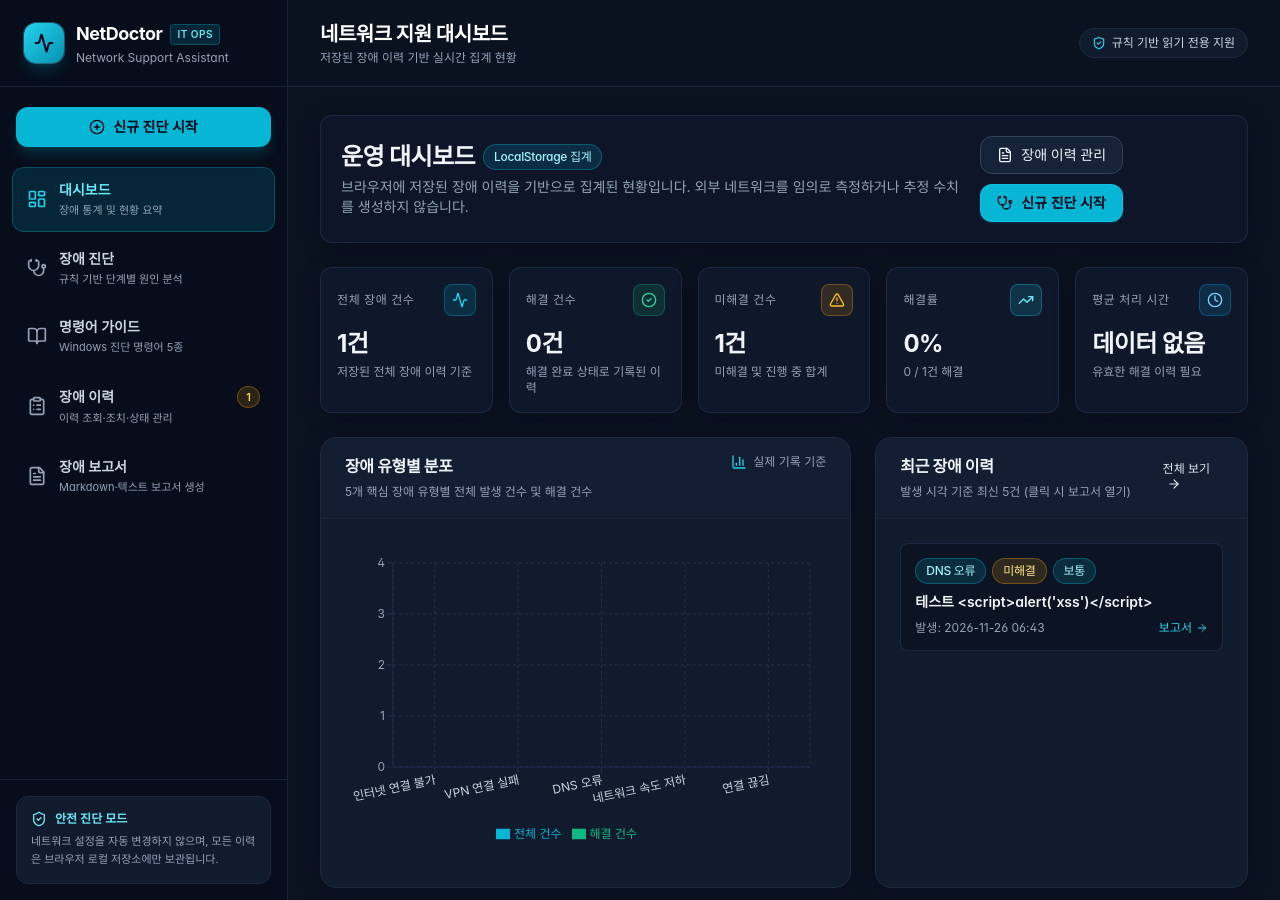
Test case: NetDoctor Security, Validation & XSS Defense Suite › XSS payload neutralization and safe DOM rendering › renders script, img onerror, and javascript: payloads strictly as escaped text with zero executable elements
This screenshot has width=1280, height=900.
History view
Click the button "장애 이력 1 이력 조회·조치·상태 관리" at (87, 396), box x1=12 y1=372 x2=275 y2=440
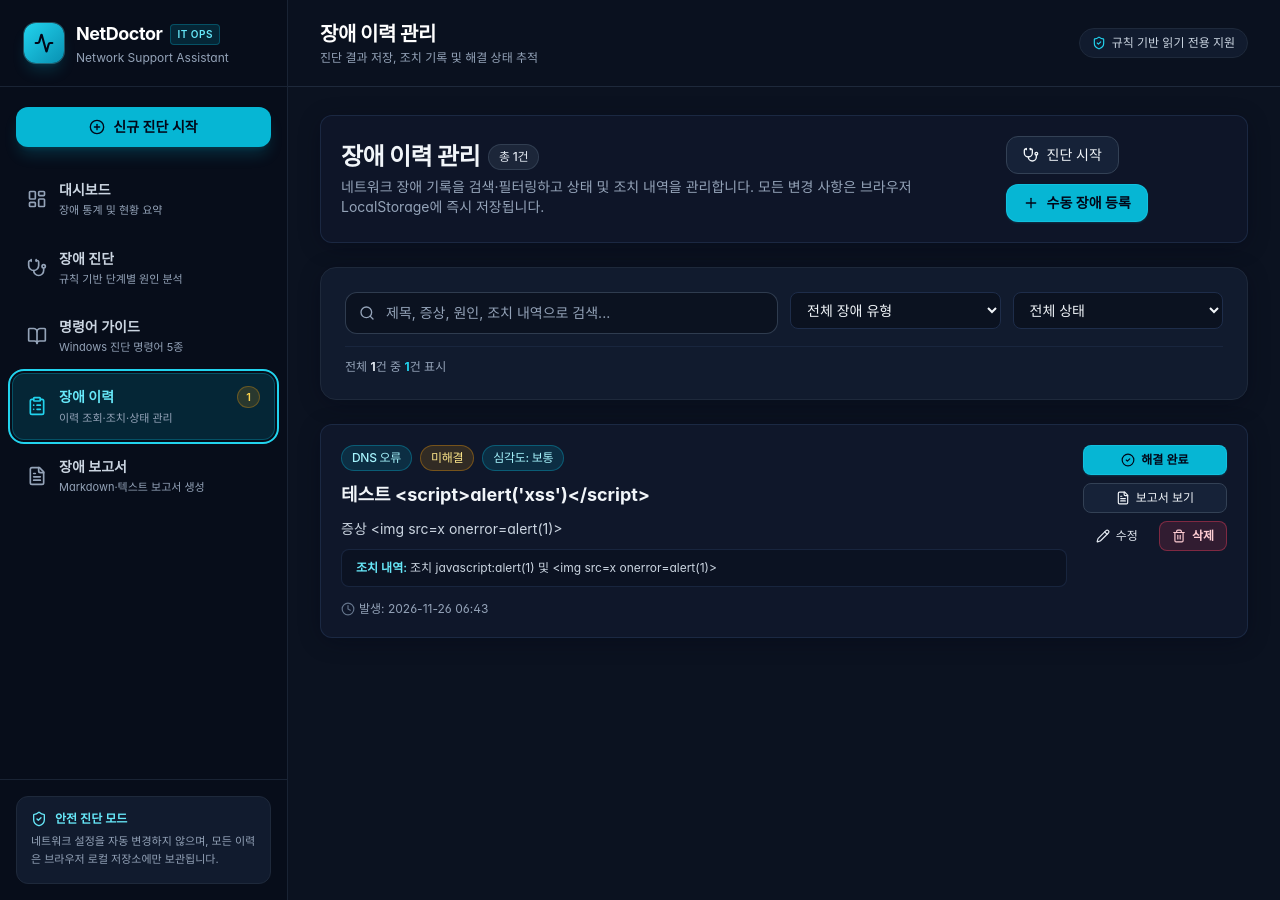
Report view
Click the button "장애 보고서 Markdown·텍스트 보고서 생성" at (93, 466), box x1=12 y1=444 x2=275 y2=508
(page scrolled)
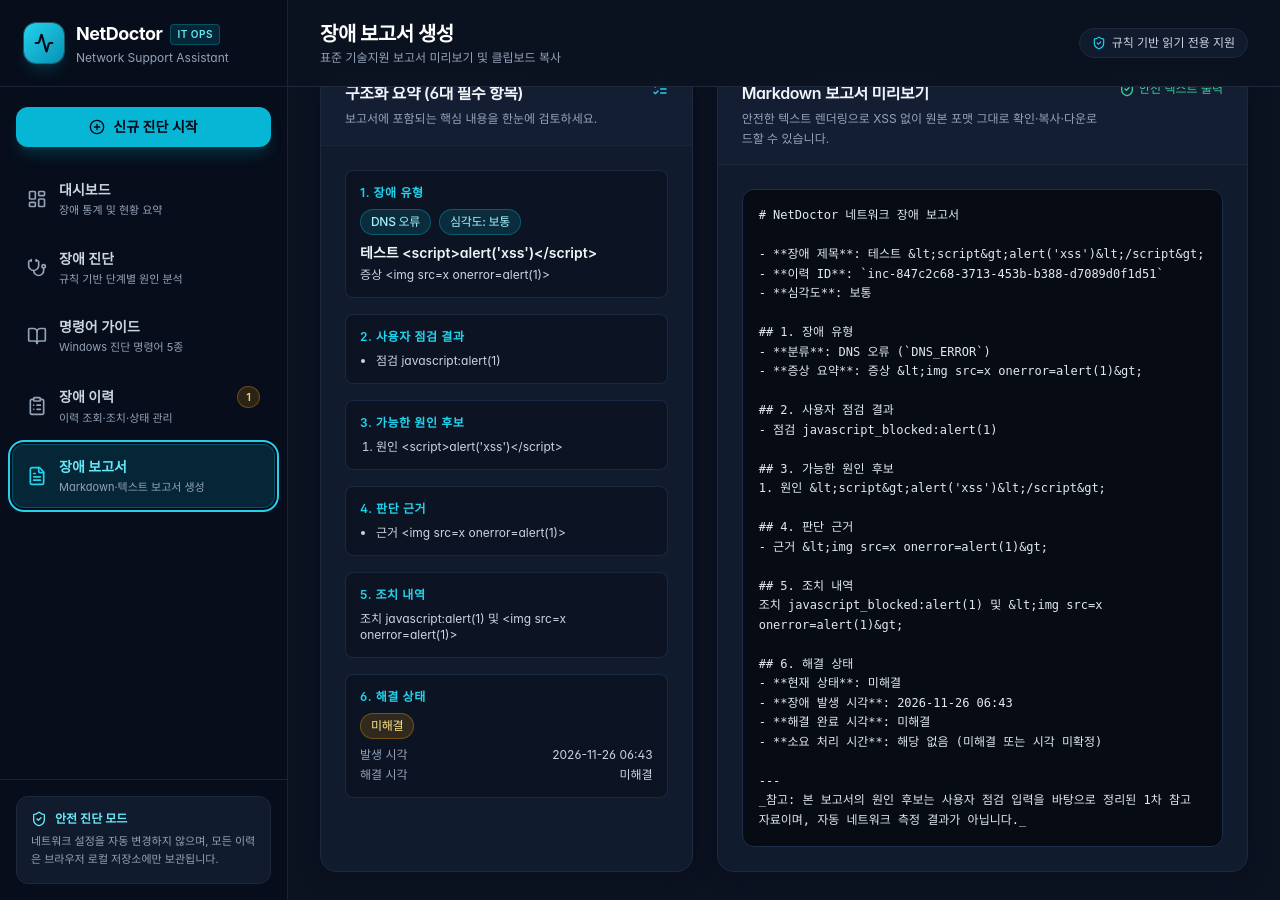
Check: the text "&lt;script&gt;" is shown, box x1=759 y1=208 x2=1204 y2=826
Check: the text "javascript_blocked:" is shown, box x1=759 y1=208 x2=1204 y2=826
